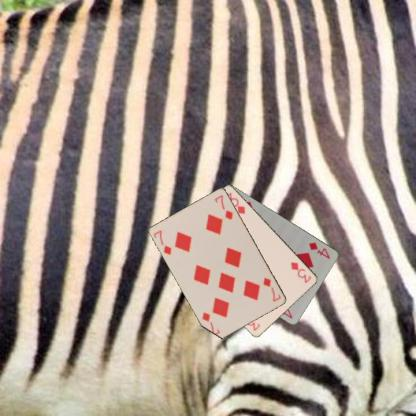3d: (288, 260, 313, 284)
4d: (306, 239, 332, 260)
7d: (260, 274, 282, 304), (151, 228, 173, 256)
